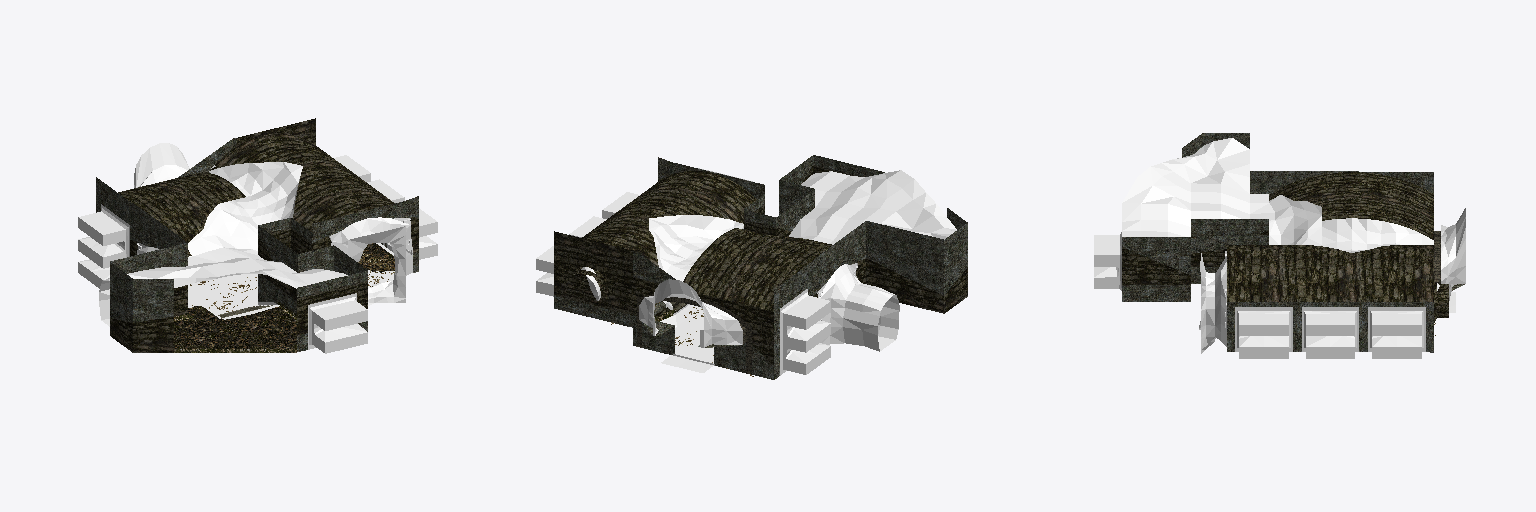
3 views of the same model, side by side, from view 1: azimuth 30°, elevation 25°; view 2: azimuth 150°, elevation 25°; view 3: azimuth 270°, elevation 25° (orthographic).
Parts seen in each view (by area): view 1: mesh6, mesh3, mesh16, mesh0, mesh14, mesh17, mesh10, mesh5, mesh8; view 2: mesh6, mesh3, mesh16, mesh2, mesh4, mesh13; view 3: mesh6, mesh3, mesh16, mesh2.
Part boxes in pixels (x1,y1,x2,y2): mesh6: (78,143,437,353); mesh3: (110,118,418,352); mesh16: (96,138,418,351); mesh0: (174,254,394,342); mesh14: (174,243,394,352); mesh17: (194,282,257,314); mesh10: (174,302,296,352); mesh5: (137,218,411,305); mesh8: (99,270,405,322); mesh6: (536,168,956,375); mesh3: (554,165,967,365); mesh16: (554,155,967,379); mesh2: (641,309,779,379); mesh4: (637,294,751,374); mesh13: (566,270,604,301); mesh6: (1094,138,1465,358); mesh3: (1122,172,1437,322); mesh16: (1122,133,1433,301); mesh2: (1227,284,1464,351).
Bounding box in the file's own units: 15.04 × 4.42 × 15.05.
18 materials, 7 textured.